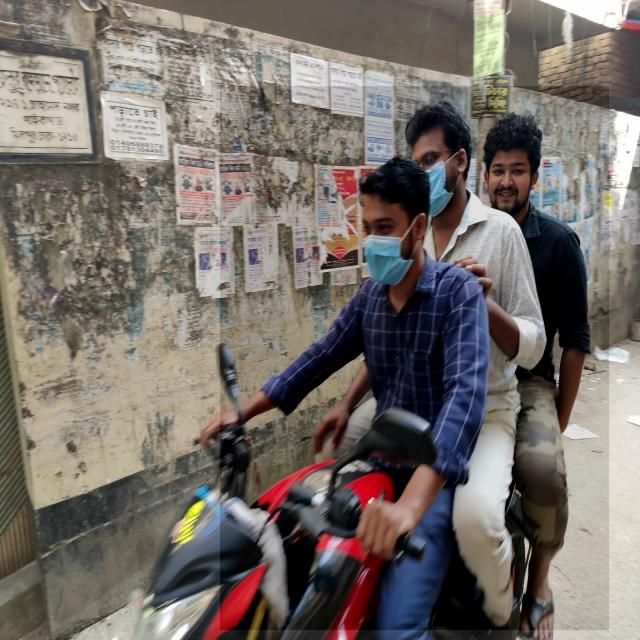Overloading: (220, 86, 609, 630)
